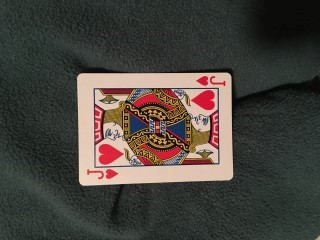JackOfHearts: (76, 72, 234, 186)
